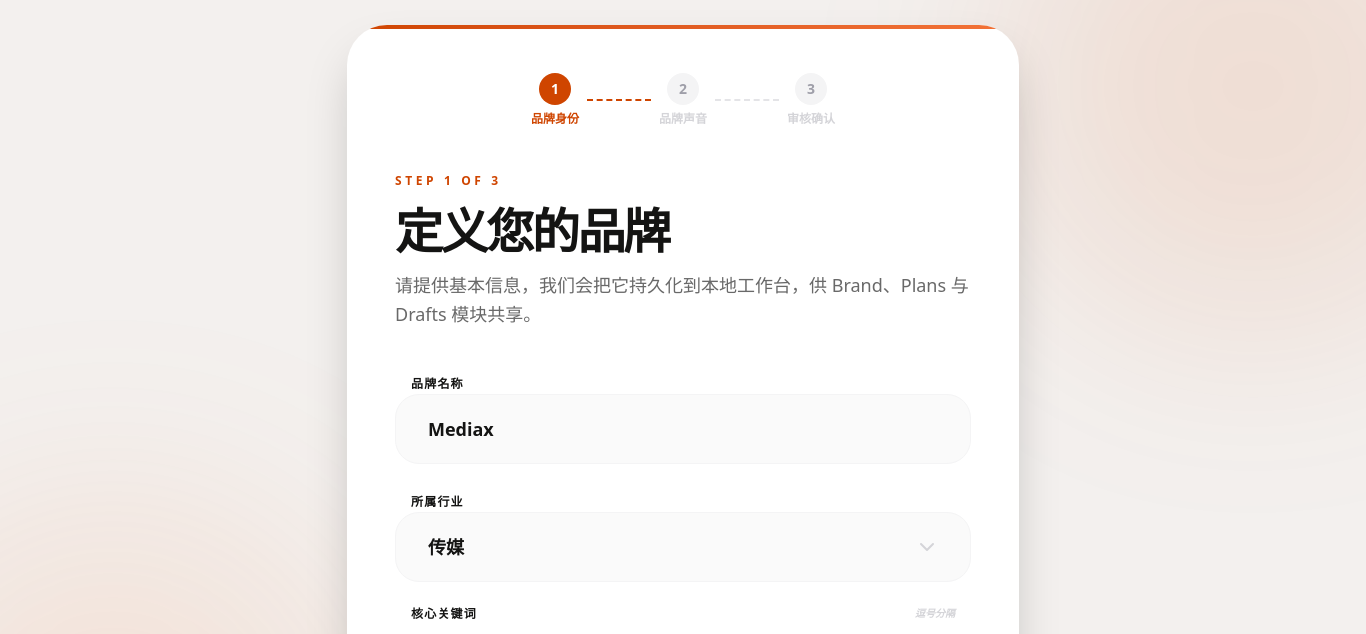
Test case: Onboarding 3-step wizard › persists form data when switching between steps
The width and height of the screenshot is (1366, 634).
# Use keyboard select-all + delete pattern to clear controlled input
Step 1. Click the field labelled "品牌名称" → (683, 428), box [395, 394, 971, 464]
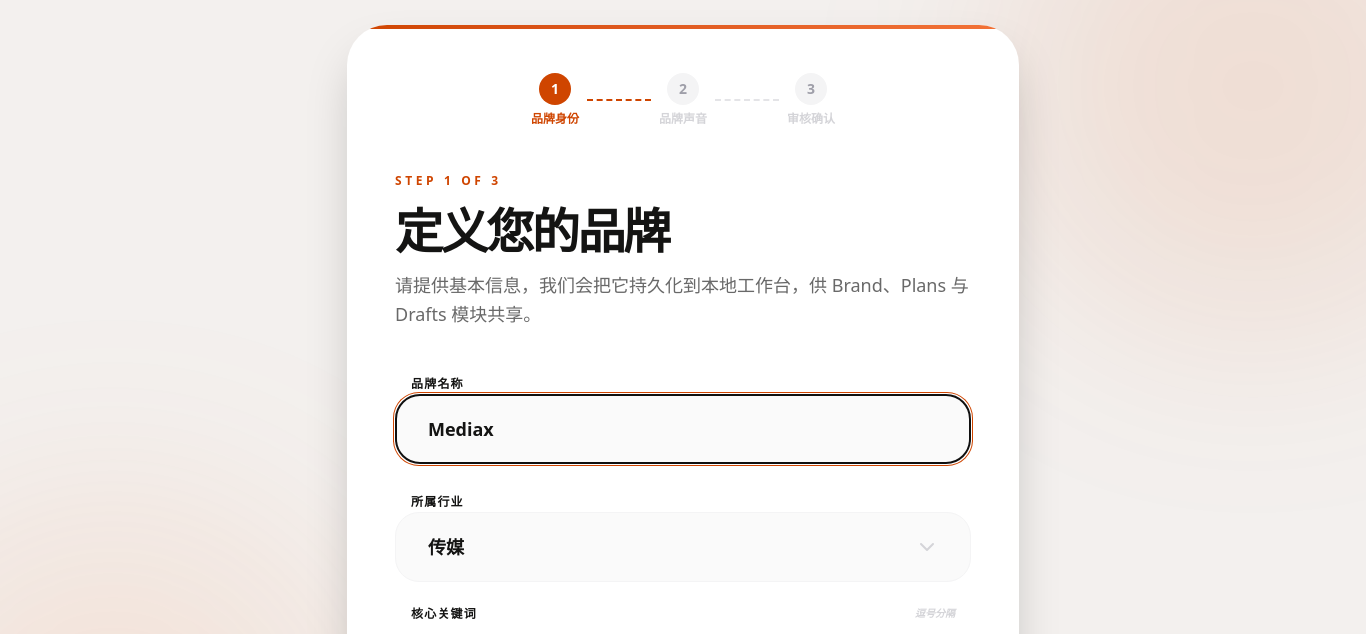
Step 2. Type keys "{Control>}a{/Control}{Backspace}"
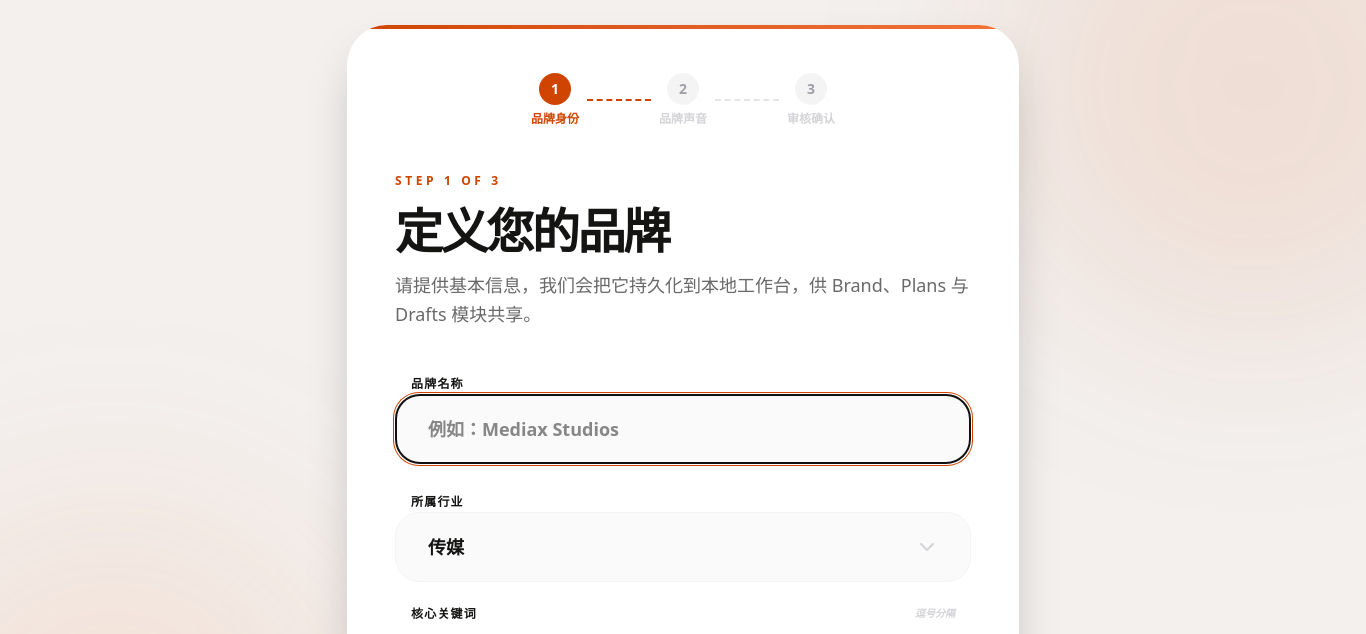
Step 3. Type "Test Brand" into the field labelled "品牌名称" → (683, 428), box [395, 394, 971, 464]
(page scrolled)
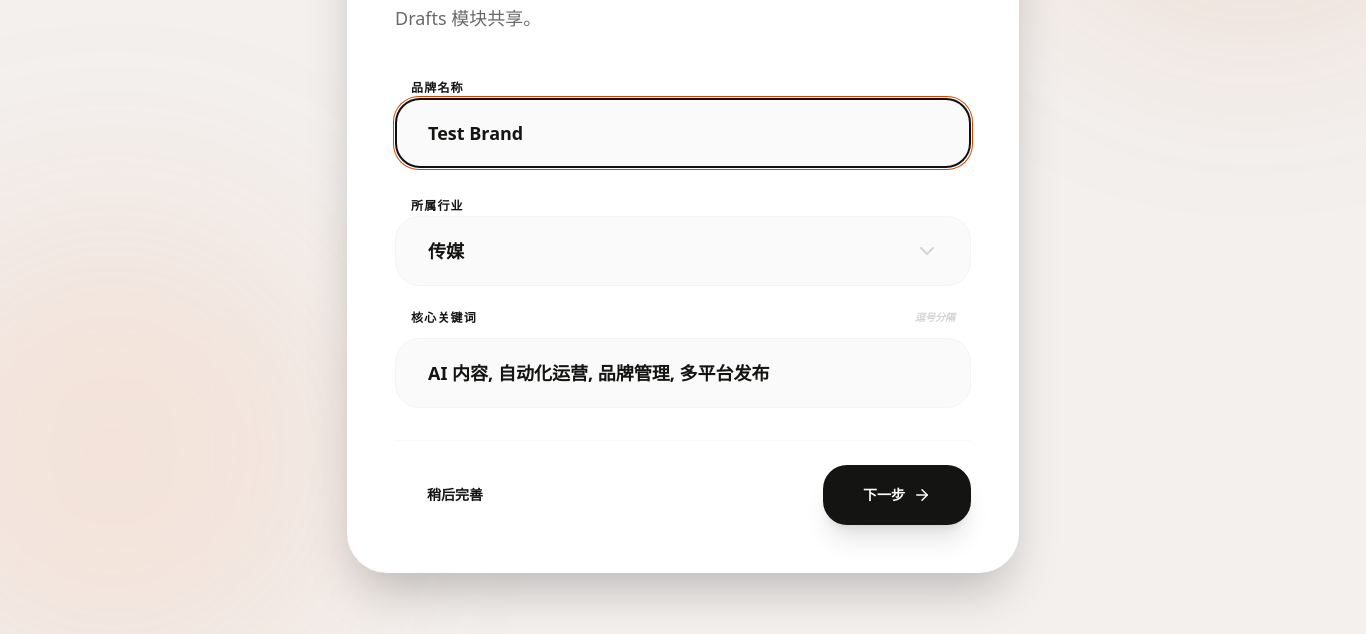
# Go to step 2 and back
Step 4. Click the button "下一步" → (897, 494), box [823, 464, 971, 524]
(page scrolled)
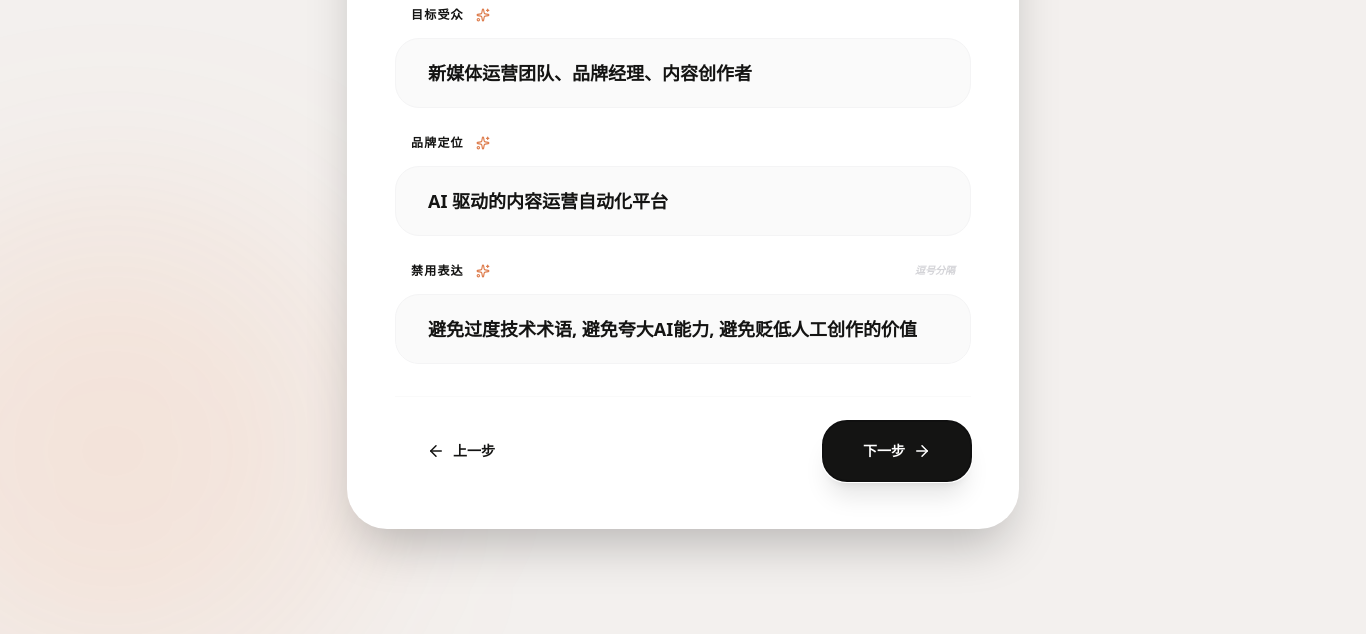
Step 5. Click the button "上一步" → (461, 450), box [395, 424, 527, 476]
(page scrolled)
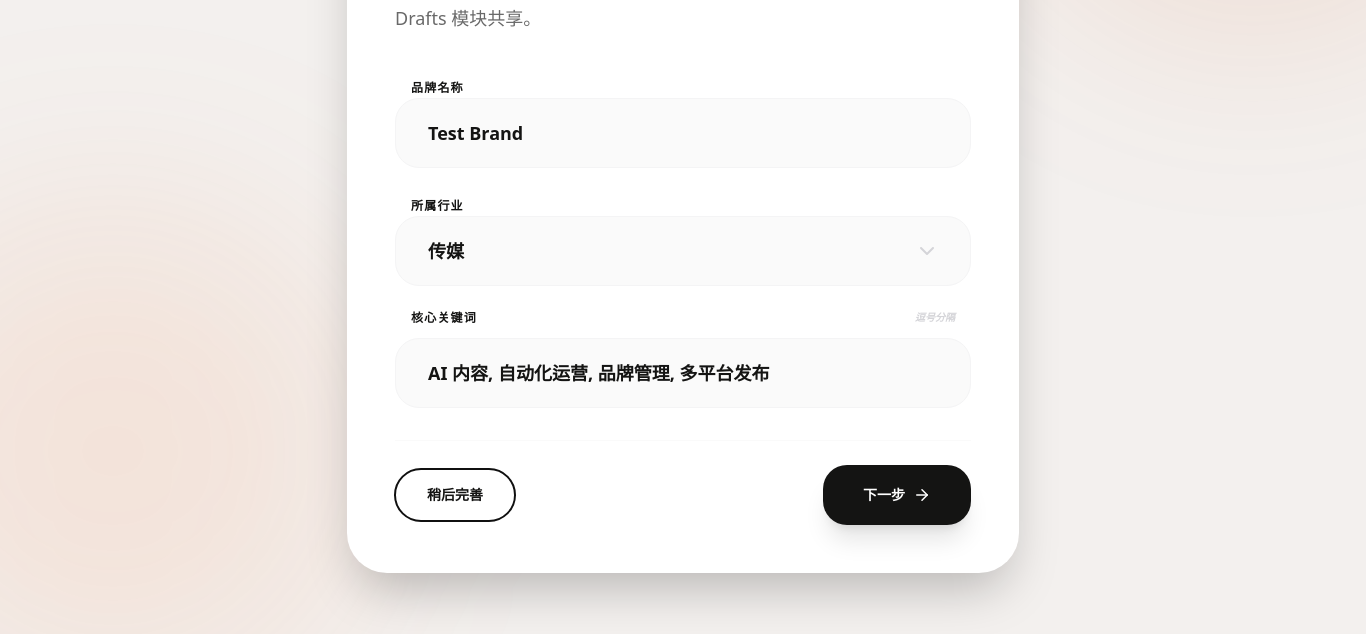
Expected: the field labelled "品牌名称" holds "Test Brand", [395, 98, 971, 168]
